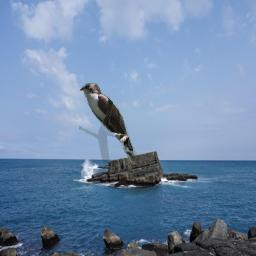Cuckoo: (79, 83, 140, 164)
